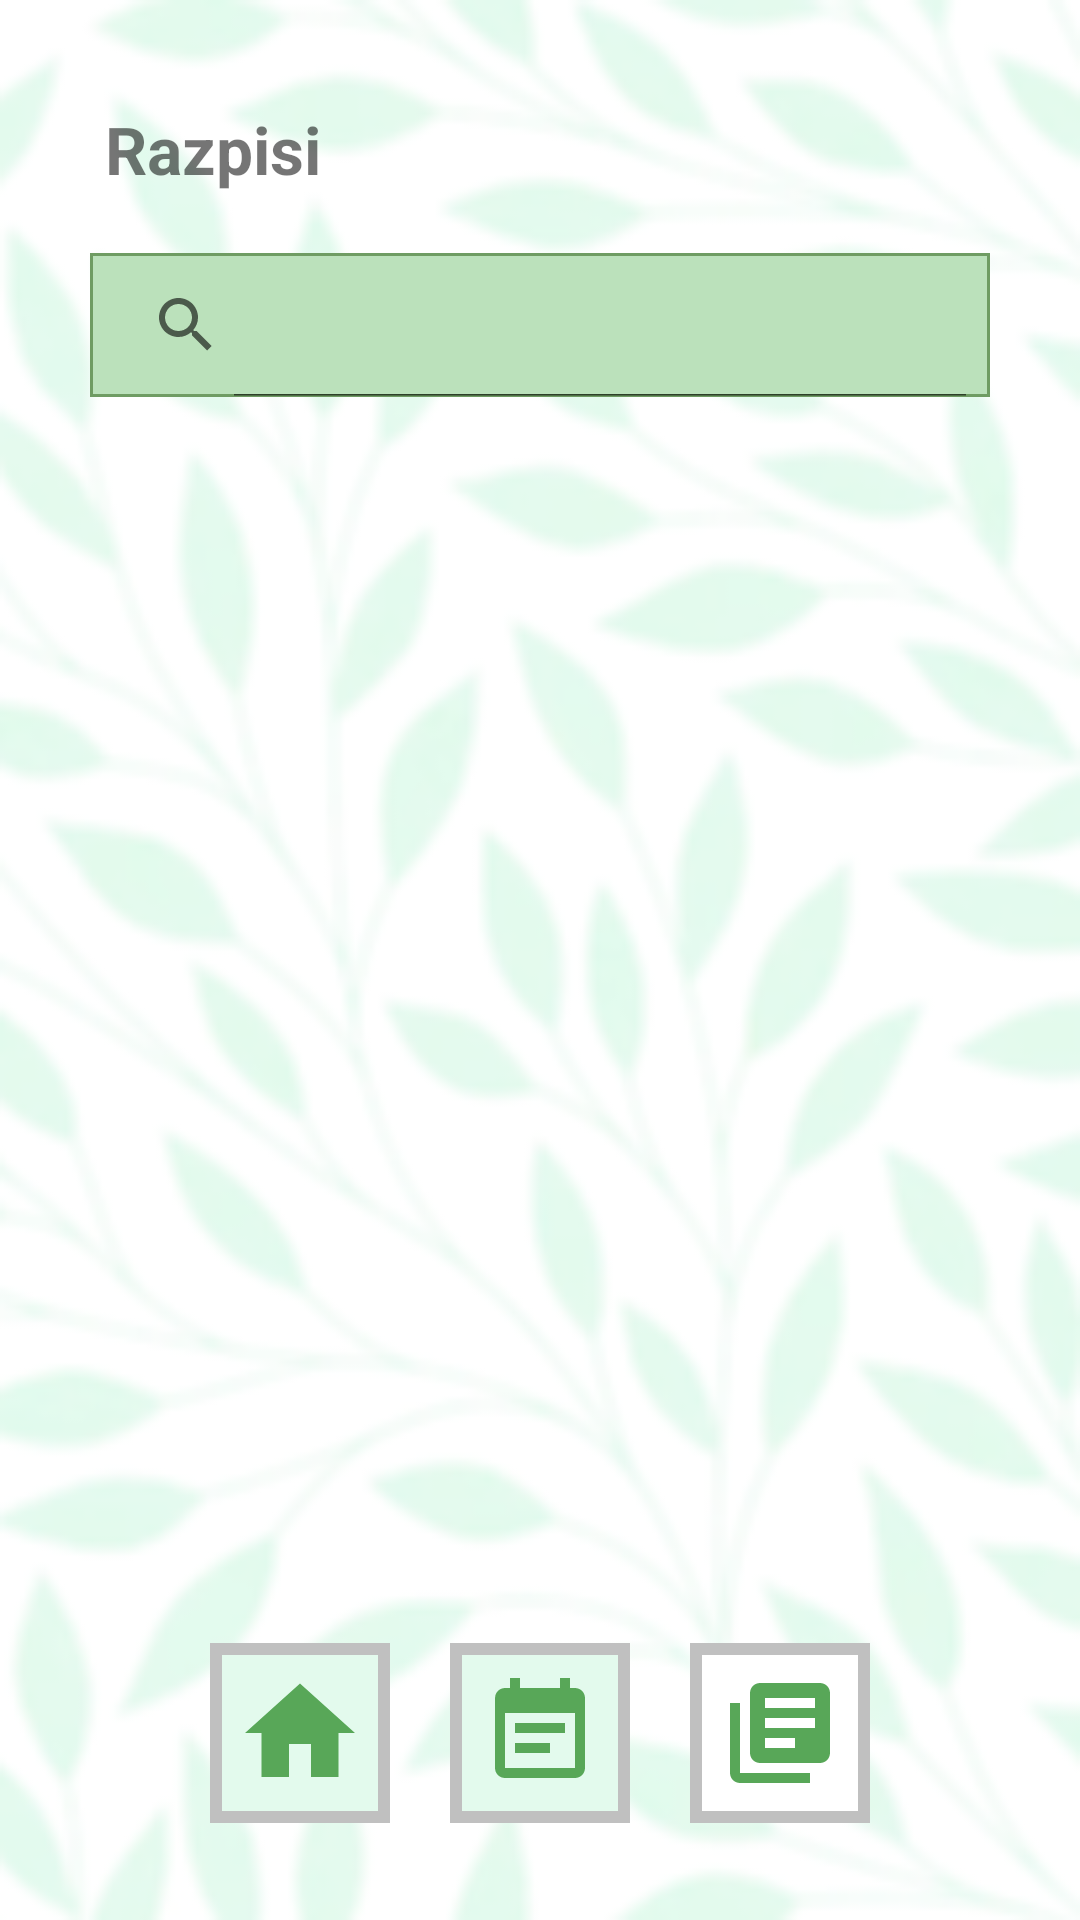

Screen size 1080 × 1920. Icon name, then its center in pixels as point (x, y):
event note: point (540, 1733)
home: point (300, 1733)
library books: point (780, 1733)
